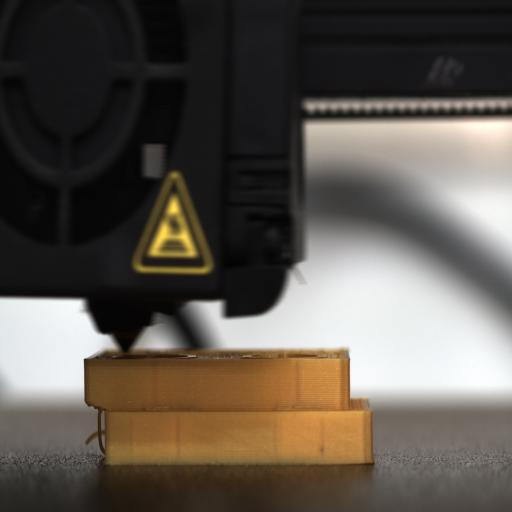layer_shift: (83, 398, 374, 416)
